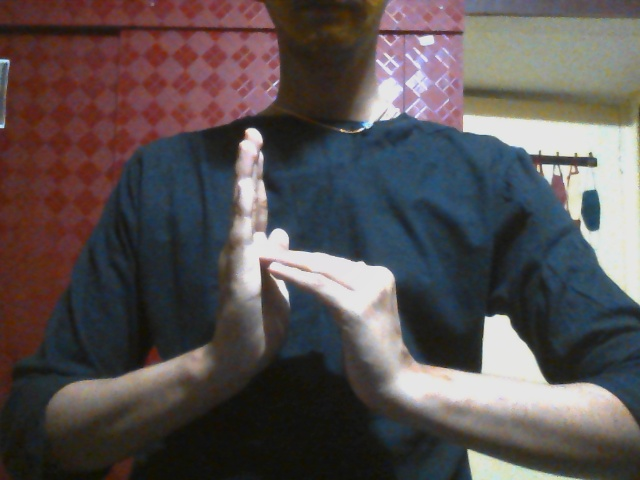Z: (209, 127, 416, 420)
